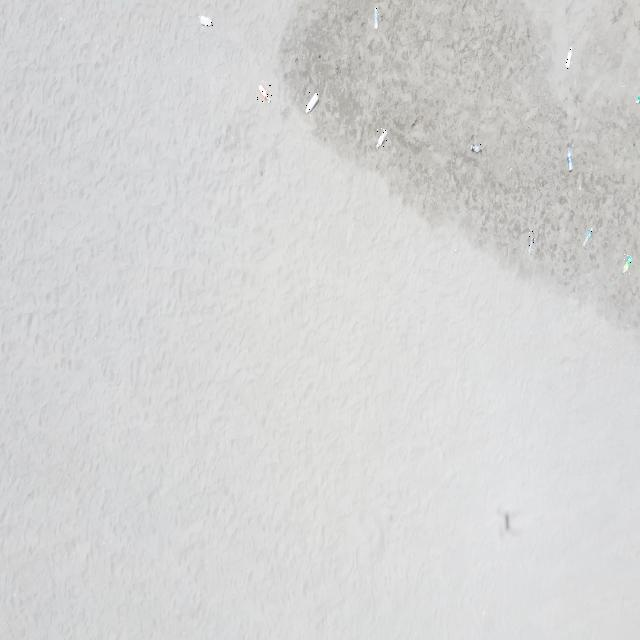plastic-bottle: (305, 92, 320, 116), (257, 81, 272, 104), (582, 227, 596, 248), (564, 145, 574, 174), (376, 127, 388, 150), (620, 254, 632, 276), (564, 46, 573, 72), (199, 12, 213, 28), (528, 230, 536, 256), (373, 6, 379, 30), (472, 143, 482, 154)
